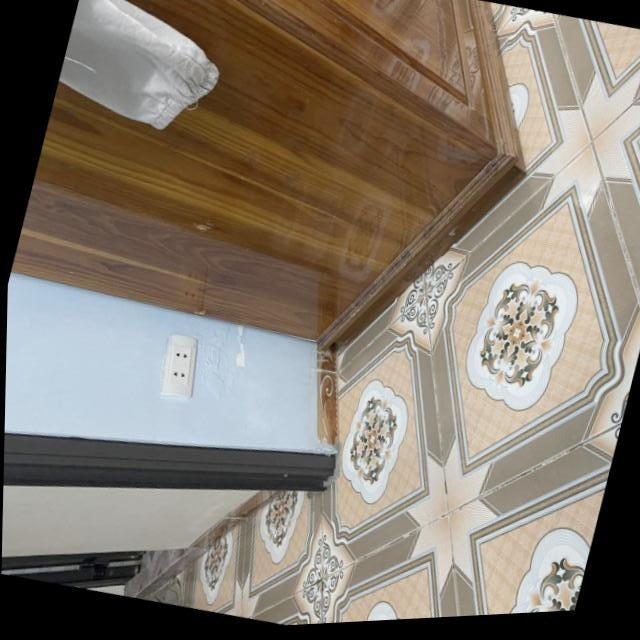outlet: (154, 332, 206, 403)
